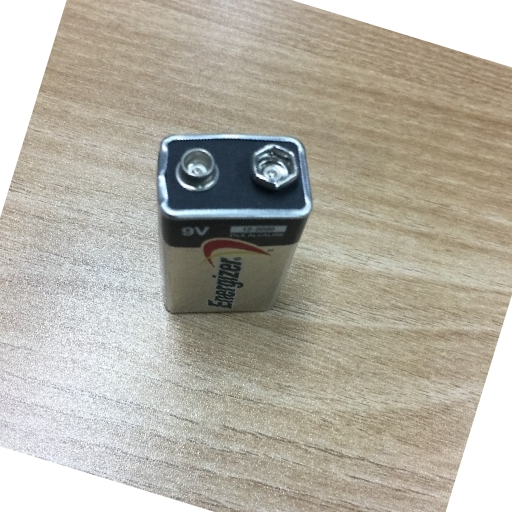Battery_3: (144, 121, 321, 342)
